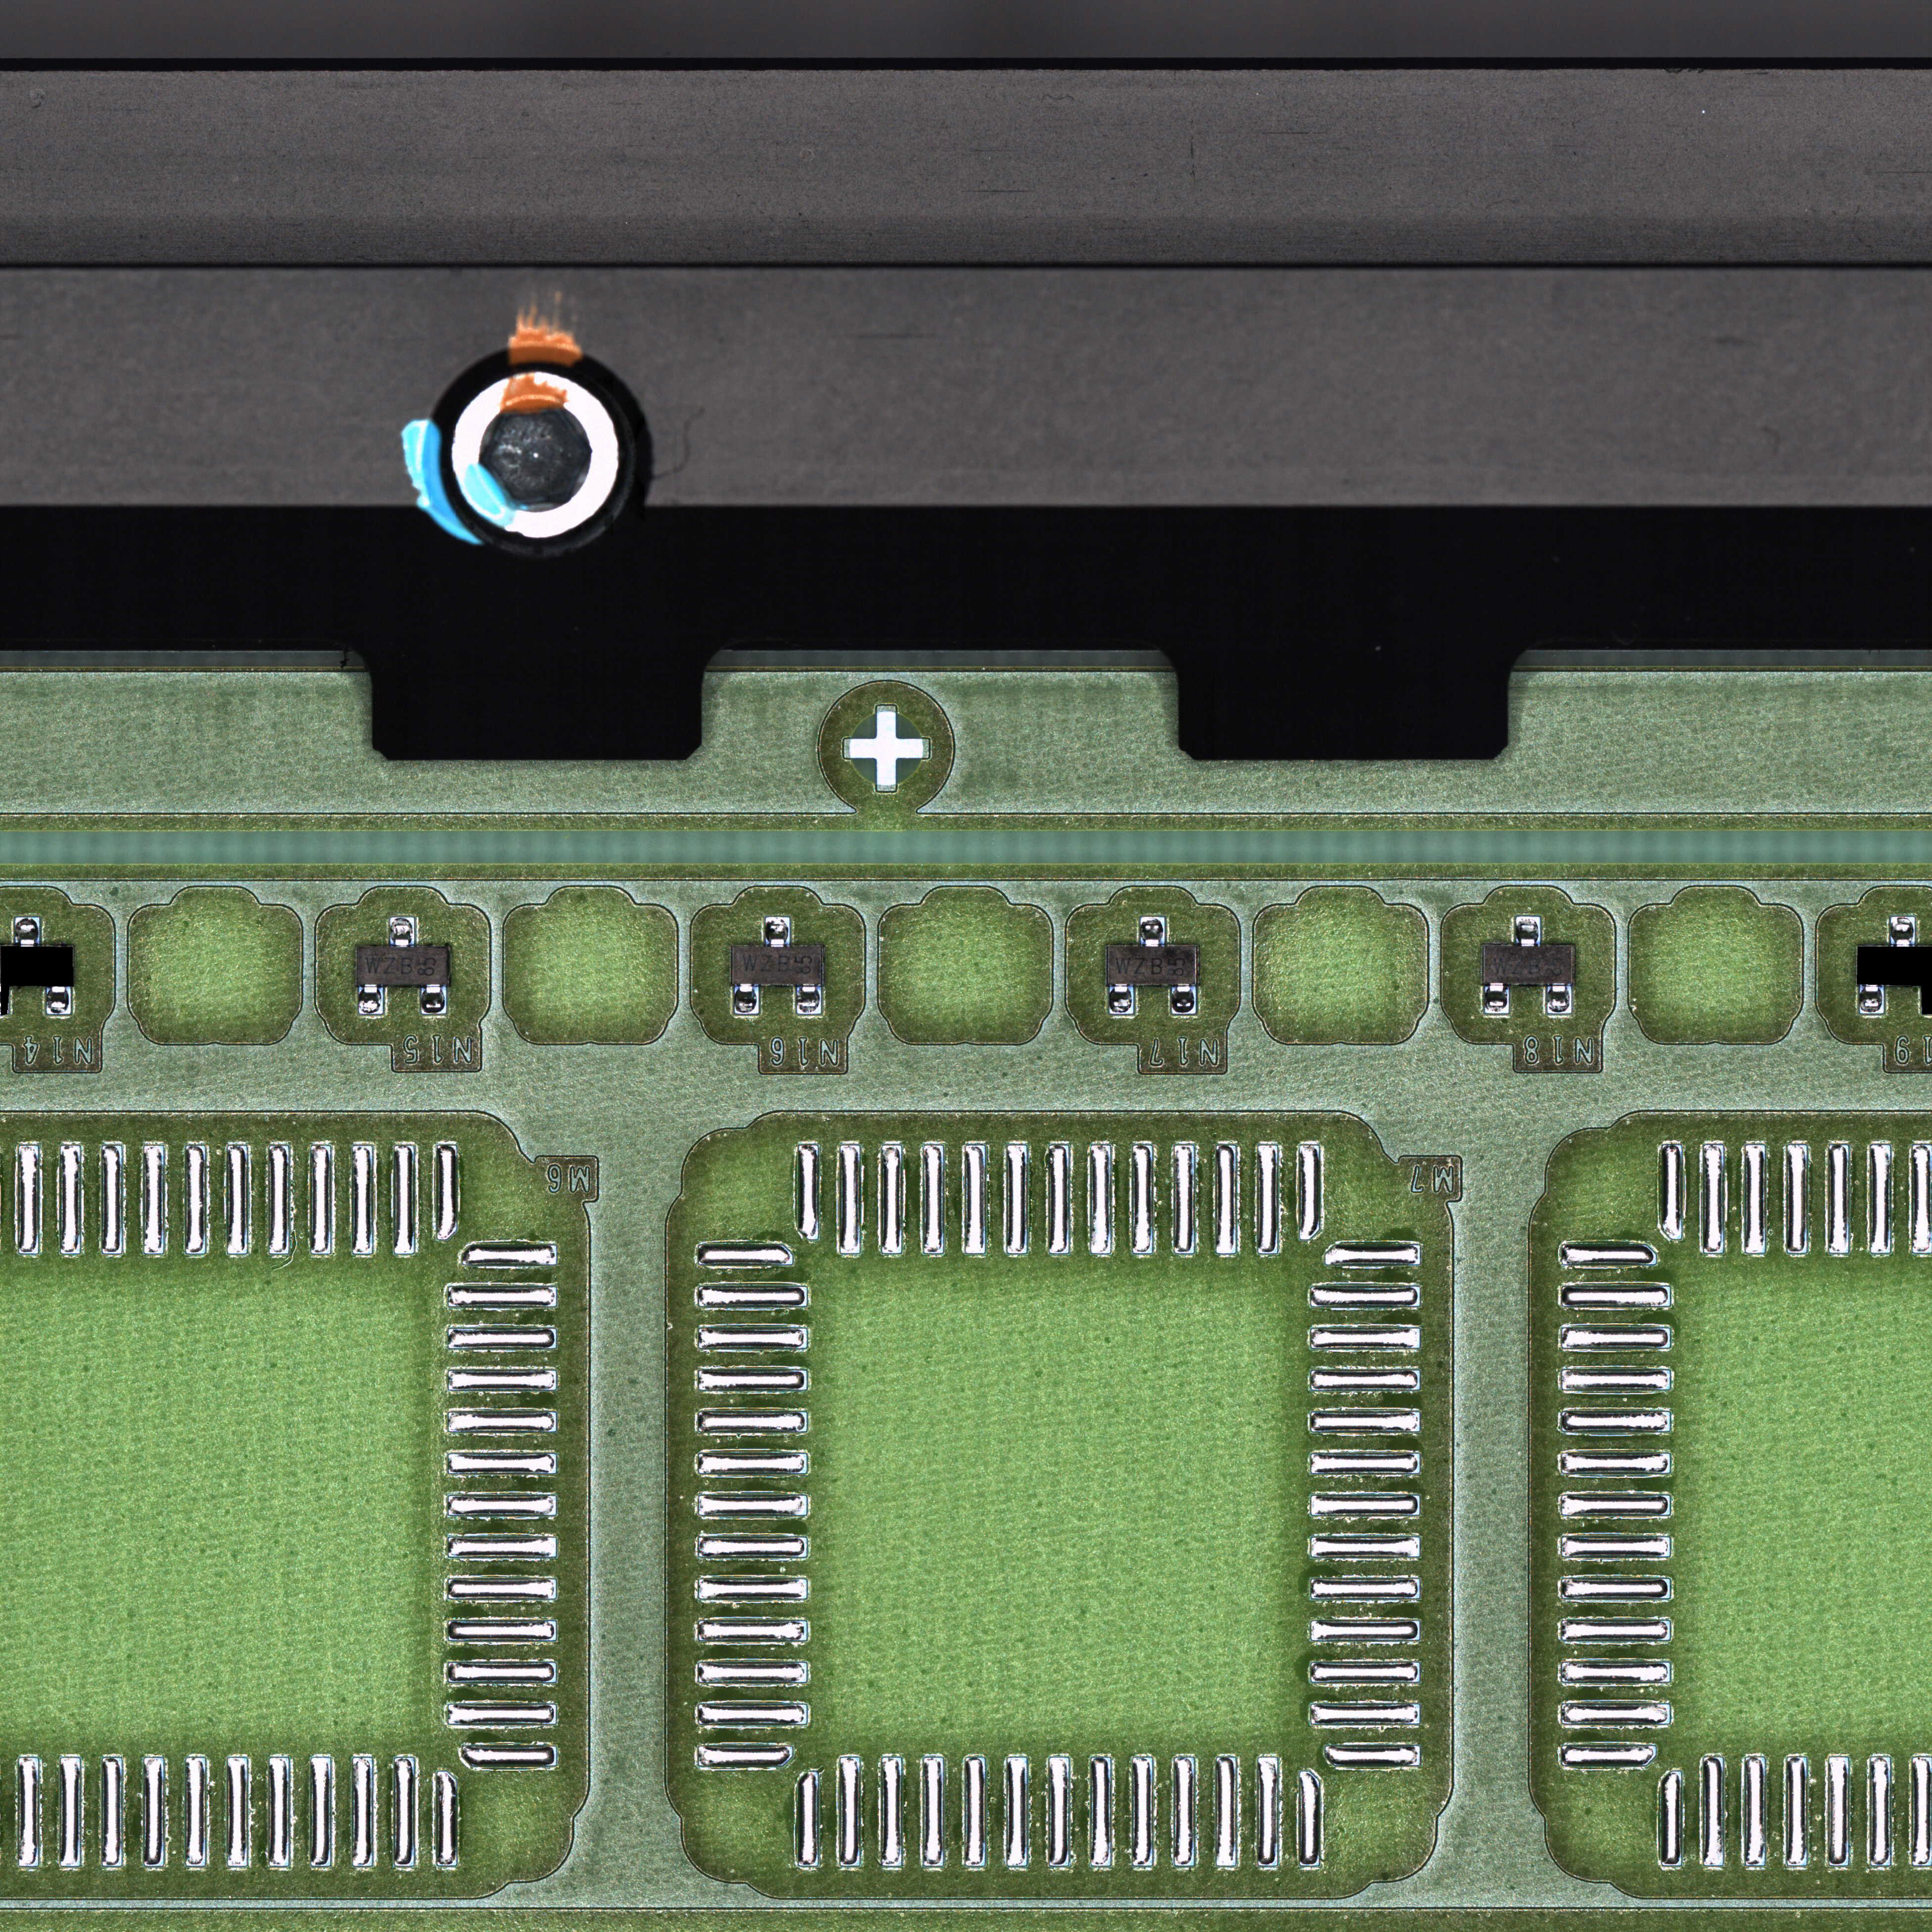Package: (357, 947, 449, 984), (732, 947, 823, 984), (1483, 947, 1573, 982), (1108, 948, 1196, 984)
Solder: (1888, 916, 1916, 948), (1858, 984, 1884, 1016), (421, 984, 448, 1014), (764, 916, 791, 947), (1548, 982, 1573, 1014), (359, 984, 384, 1014), (1109, 984, 1134, 1014), (734, 984, 759, 1014), (796, 984, 821, 1014), (389, 916, 414, 947), (1139, 916, 1164, 947), (1484, 984, 1509, 1014), (1171, 984, 1196, 1014), (1516, 916, 1541, 947), (16, 916, 39, 947), (48, 985, 71, 1016)
